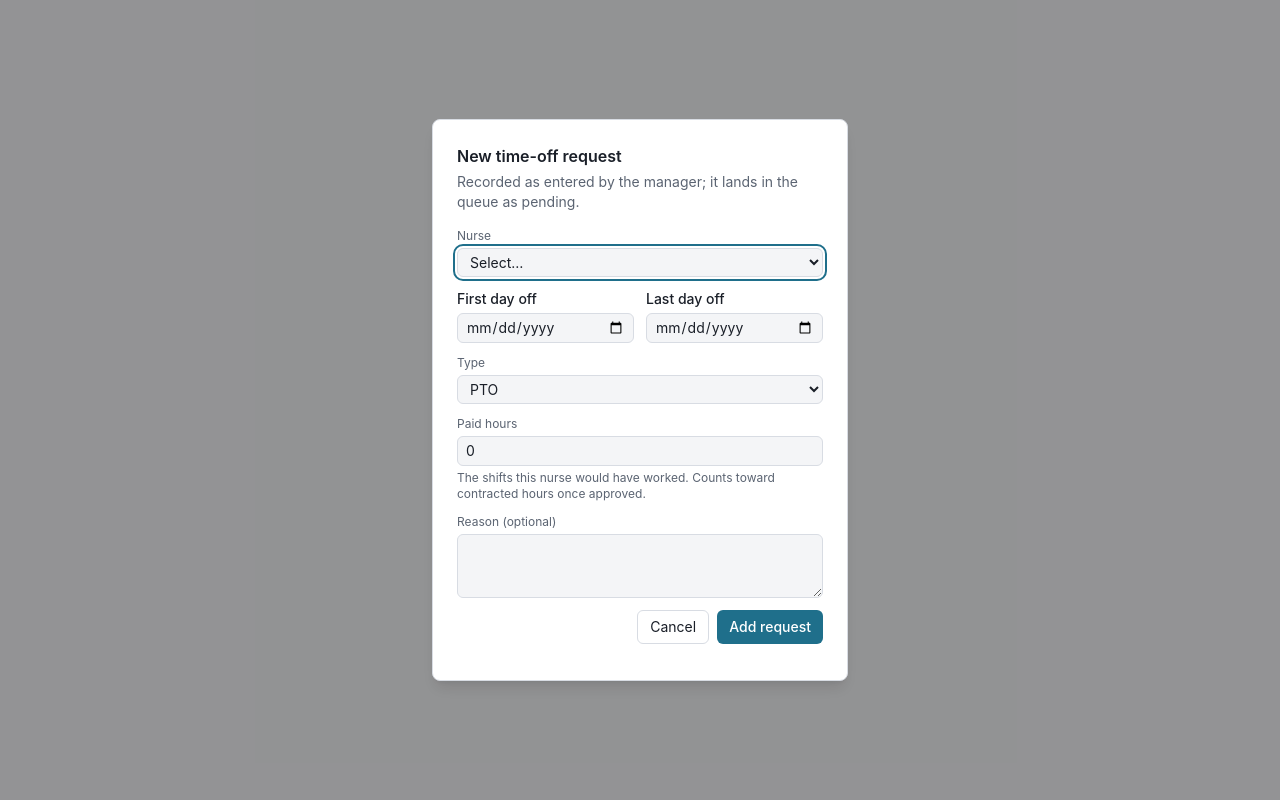
Test case: paid hours on a new request › will not save a request with the paid hours left blank
Select "Martinez, Ana (RN)" in the dropdown labelled "Nurse": (640, 262) x1=457 y1=248 x2=823 y2=277
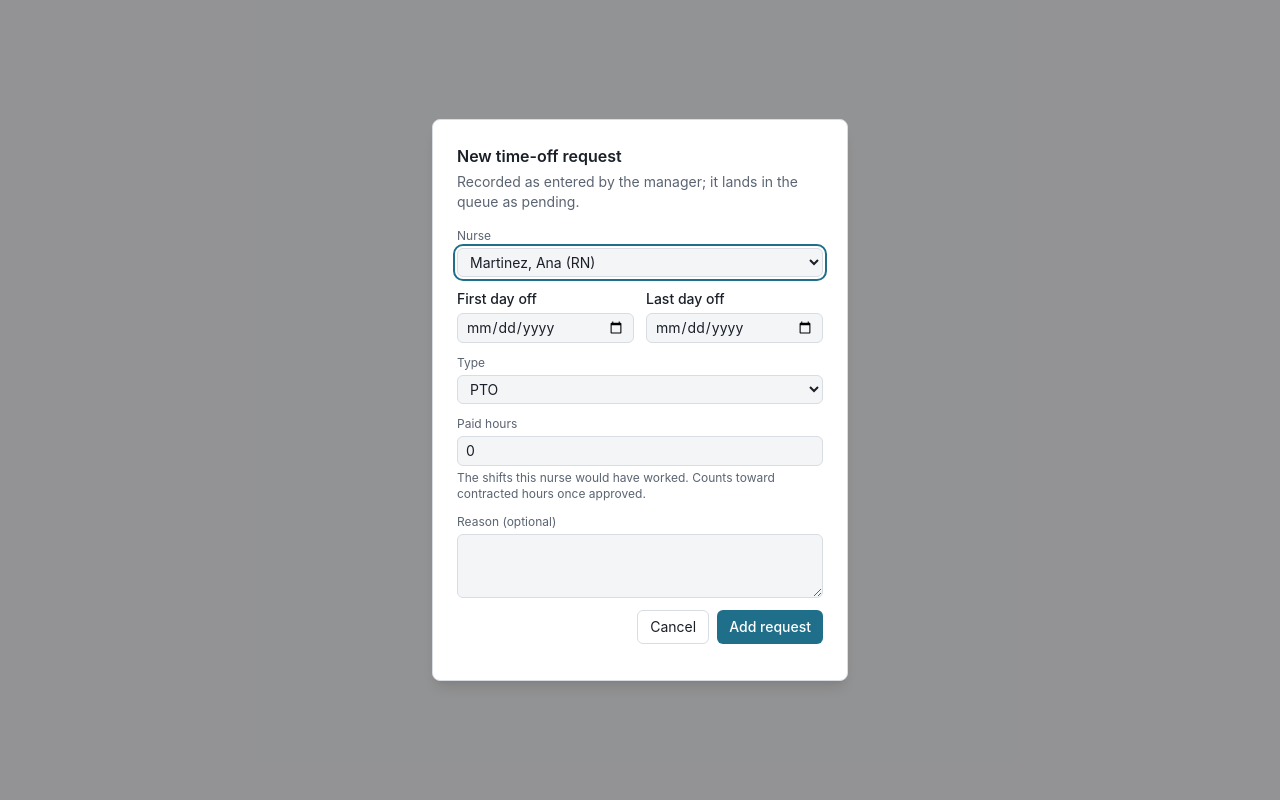
In the date field labelled "First day off": (546, 328) x1=457 y1=313 x2=634 y2=343, type "2026-10-05"
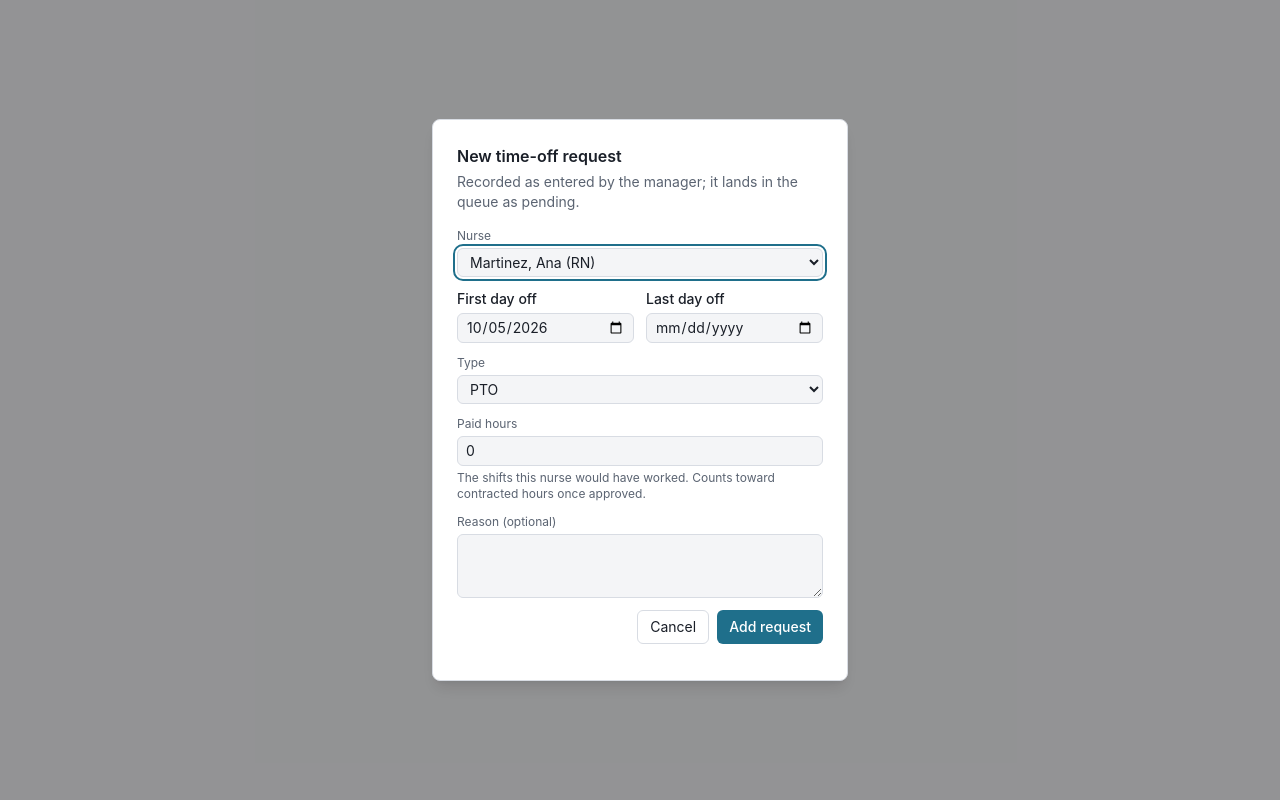
In the date field labelled "Last day off": (734, 328) x1=646 y1=313 x2=823 y2=343, type "2026-10-07"
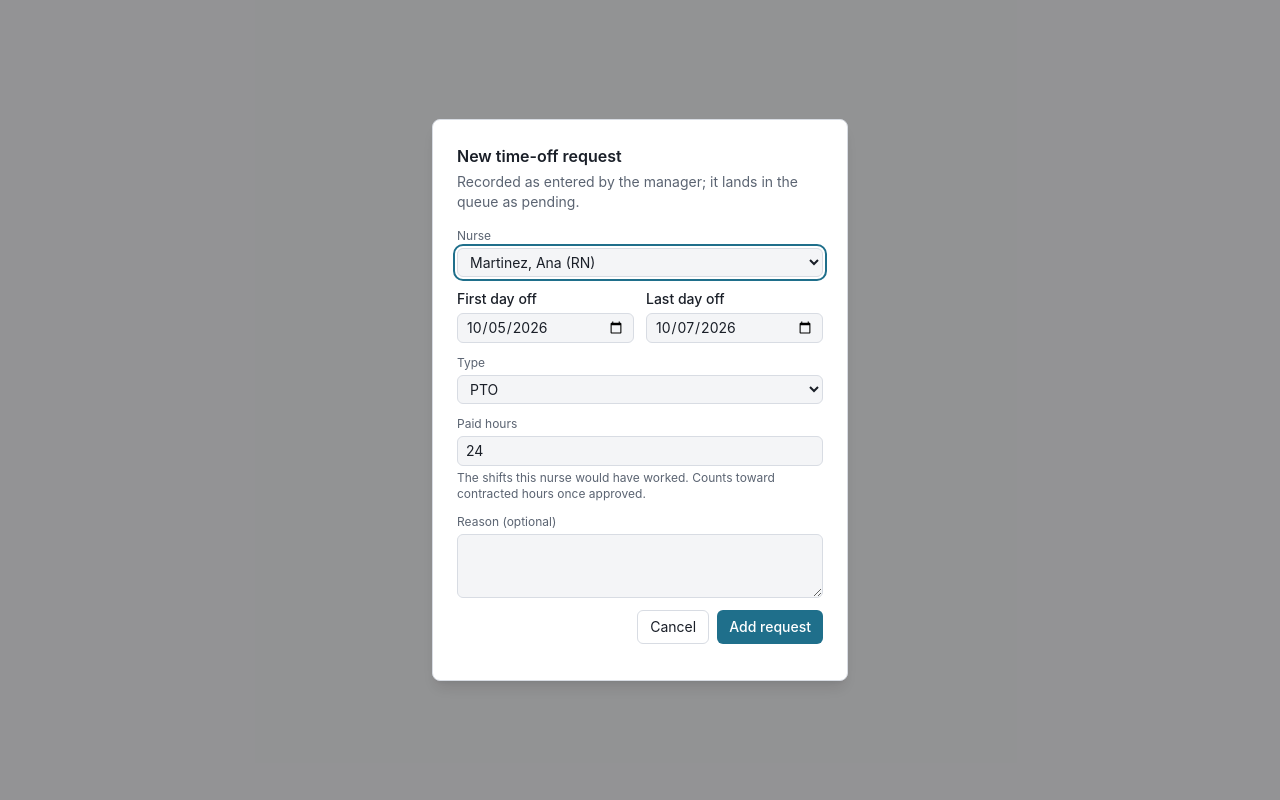
Now the number field with test id "paid-hours" holds "24"
Clear the number field with test id "paid-hours": (640, 451) x1=457 y1=436 x2=823 y2=466
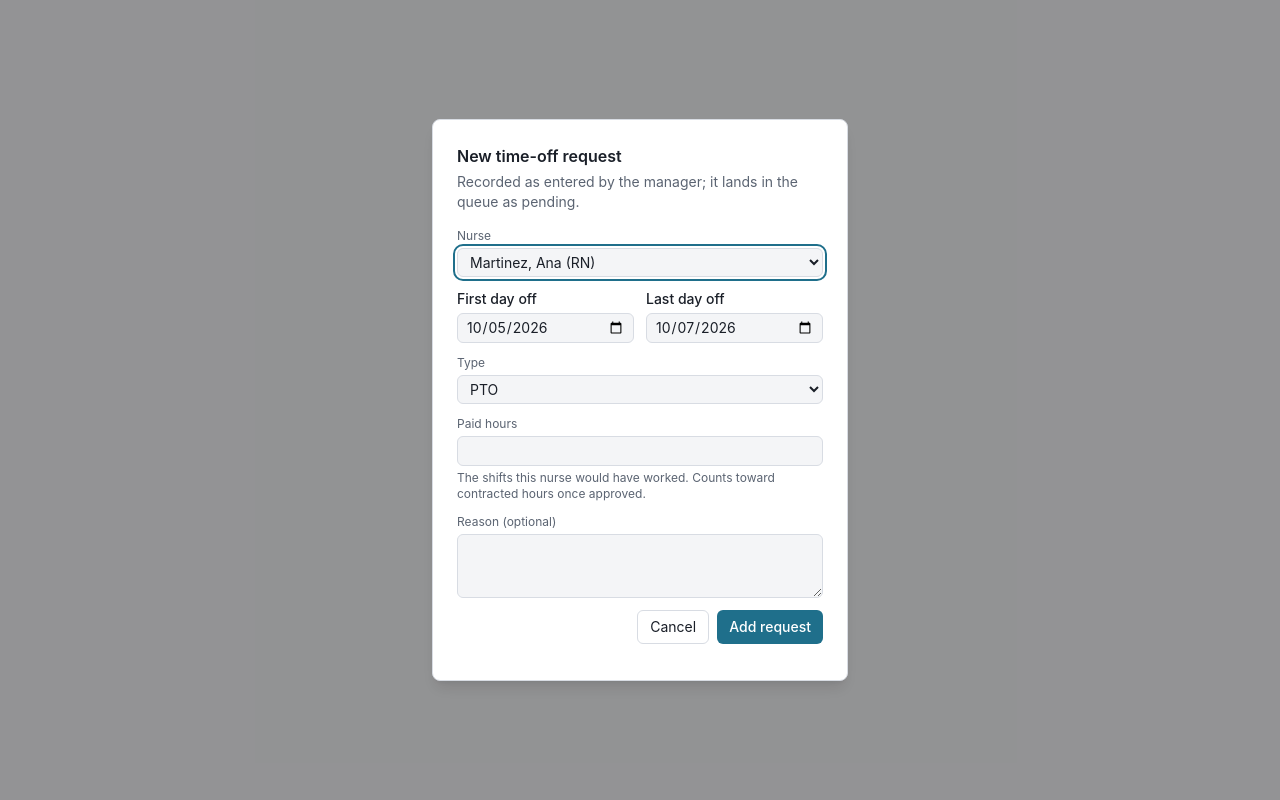
Click the button "Add request": click(770, 627) x1=717 y1=610 x2=823 y2=644
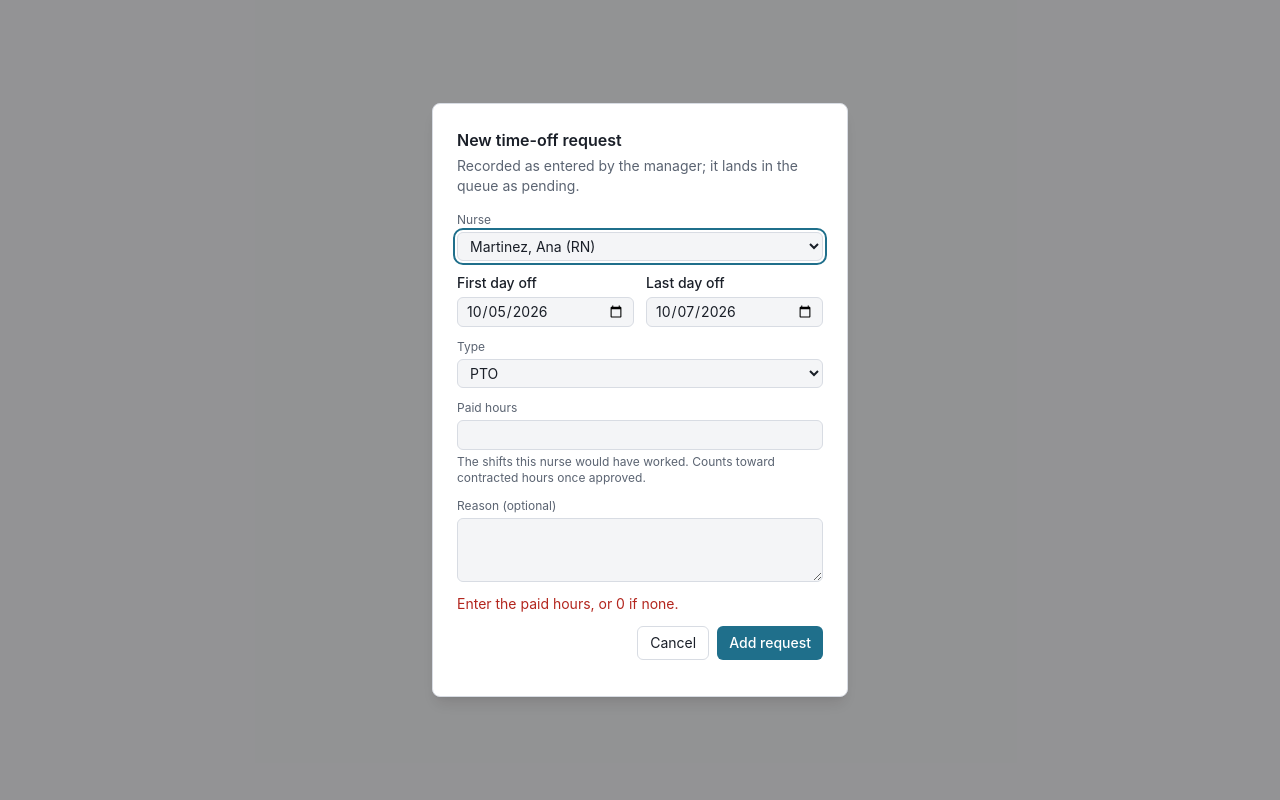
Now the message reads "Enter the paid hours, or 0 if none.", box x1=457 y1=595 x2=678 y2=612
